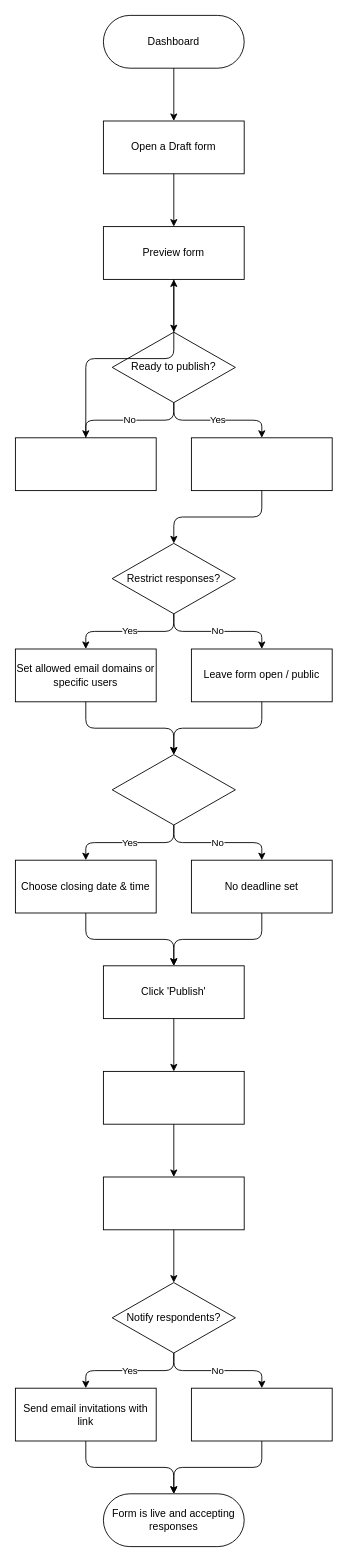
The diagram is 348 pixels wide and 1562 high, and some of its shapes have lost their labels. The box of each missing label's shape, as (x1, y1, x2, y2) in pixels:
Configure publish settings: (191, 437, 332, 491)
Copy & share link manually: (191, 1387, 332, 1441)
Edit form: (15, 437, 156, 491)
Form status changes to Published: (103, 1176, 244, 1230)
Set response deadline?: (111, 754, 235, 825)
System generates unique form URL: (103, 1071, 244, 1124)
